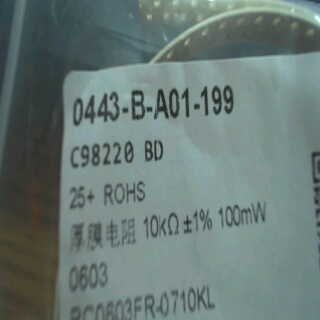10kR: (137, 211, 181, 242)
